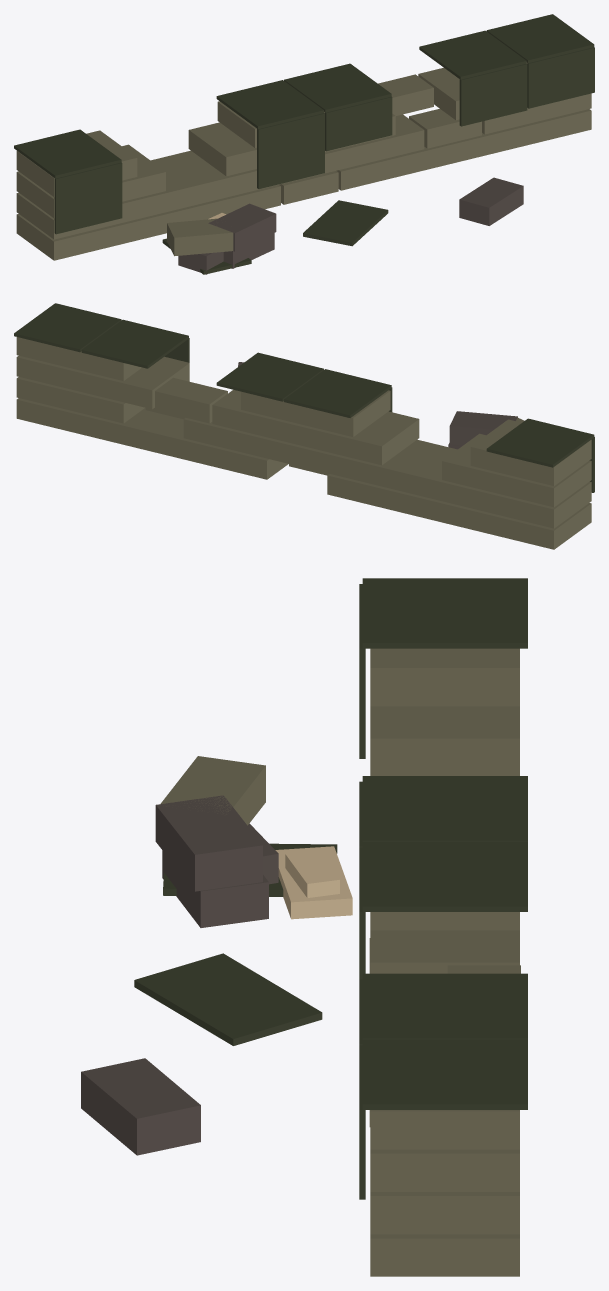
File: SM_MuroSacos_v4_Red_e1_Danado_LOD1.fbx
The picture shows the model from 3 angles, top to bottom: view 1: azimuth 30°, elevation 25°; view 2: azimuth 150°, elevation 25°; view 3: azimuth 270°, elevation 25°; orthographic projection. The views are drawn at different scales.
Parts seen in each view (by area): view 1: SM_bloques.muro_sacos_estados_v17_LOD1; view 2: SM_bloques.muro_sacos_estados_v17_LOD1; view 3: SM_bloques.muro_sacos_estados_v17_LOD1.
Part boxes in pixels (box(x1,y1,x2,y2)): SM_bloques.muro_sacos_estados_v17_LOD1: box(14, 14, 594, 274); SM_bloques.muro_sacos_estados_v17_LOD1: box(14, 303, 594, 549); SM_bloques.muro_sacos_estados_v17_LOD1: box(81, 578, 527, 1276).
Size of the model in its own units: 7.98 by 1.24 by 2.86.
